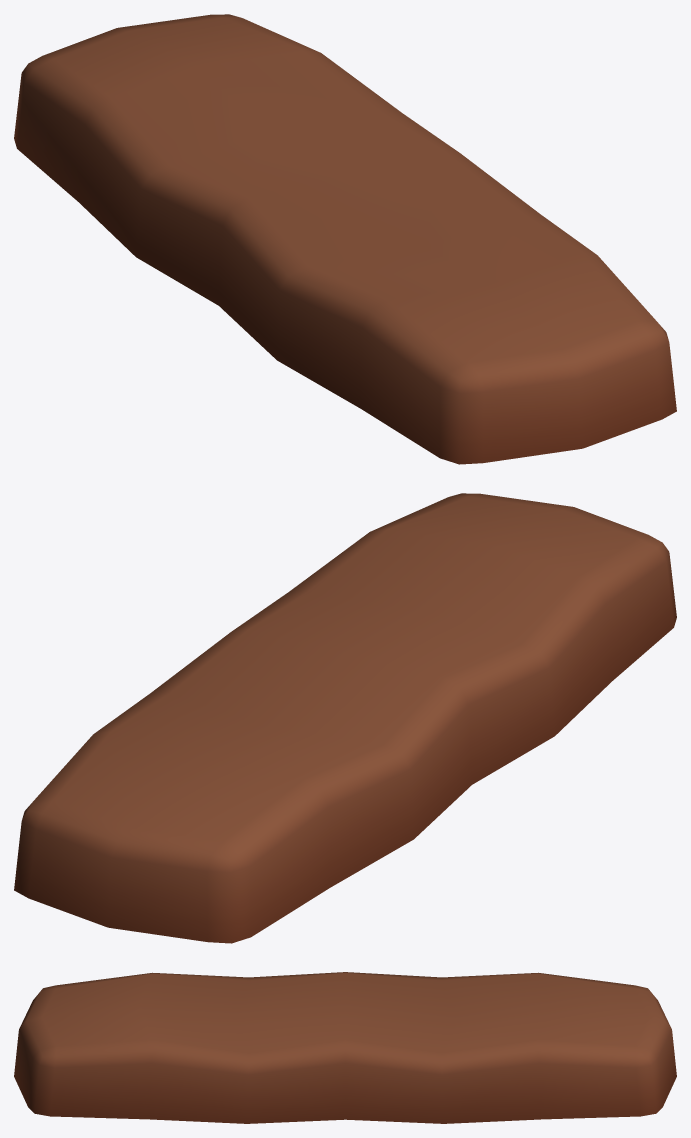
The model's file is grow line.fbx.
3 views of the same model, one above another, from view 1: azimuth 30°, elevation 25°; view 2: azimuth 150°, elevation 25°; view 3: azimuth 270°, elevation 25° (orthographic). The views are drawn at different scales.
Visible parts, largest first — view 1: grow_line; view 2: grow_line; view 3: grow_line.
Part boxes in pixels (x1=…): grow_line: x1=14, y1=14, x2=676, y2=464; grow_line: x1=14, y1=493, x2=676, y2=943; grow_line: x1=14, y1=972, x2=676, y2=1123.
Bounding box in the file's own units: 1.07 × 0.37 × 3.17.
1 material, 1 textured.
